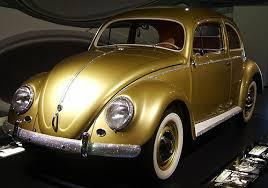volkswagen: (3, 5, 263, 187)
